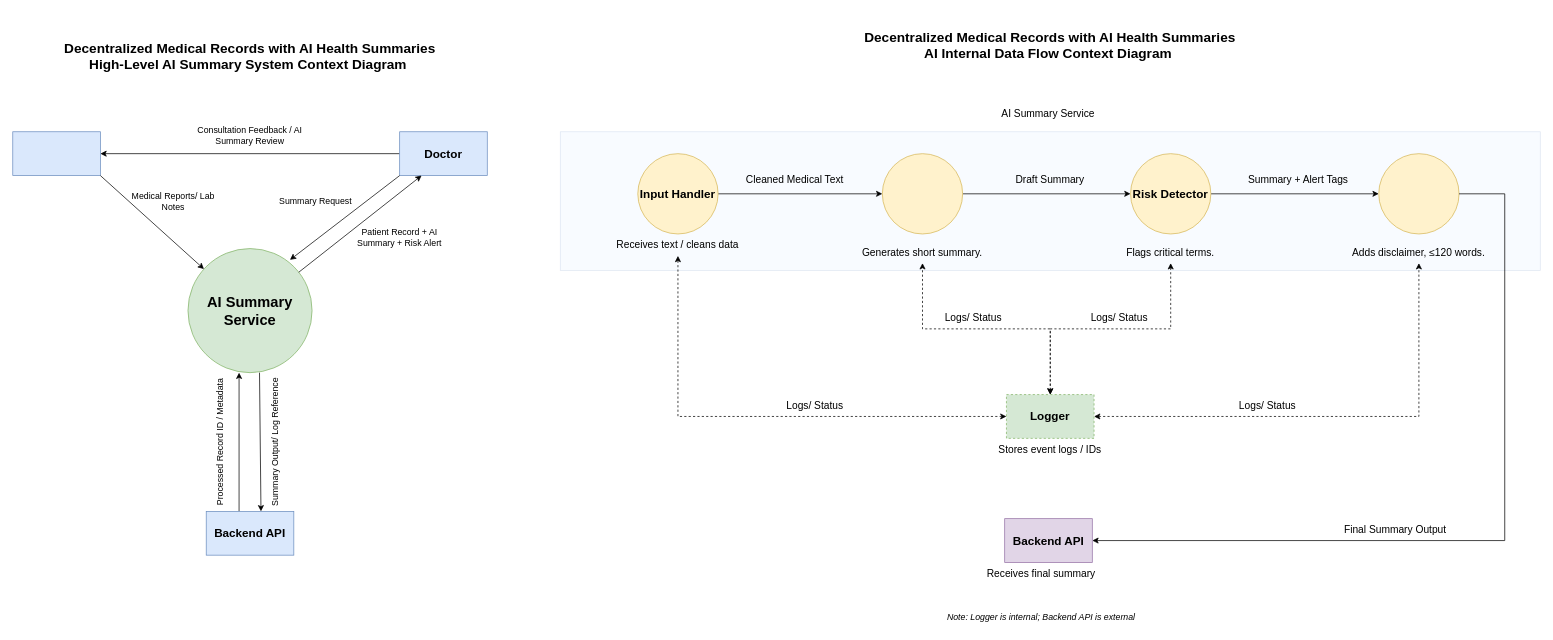
Image size: 1553x640. Some labels were removed from this diagram. The shapes that lost their labels are listed below. From the top down, each one's box as (x1, y1, x2, y2) in pixels, then its label:
(12, 131, 100, 176): Patient
(882, 153, 963, 234): Summarization Model
(1378, 153, 1459, 234): Summary Formatter
